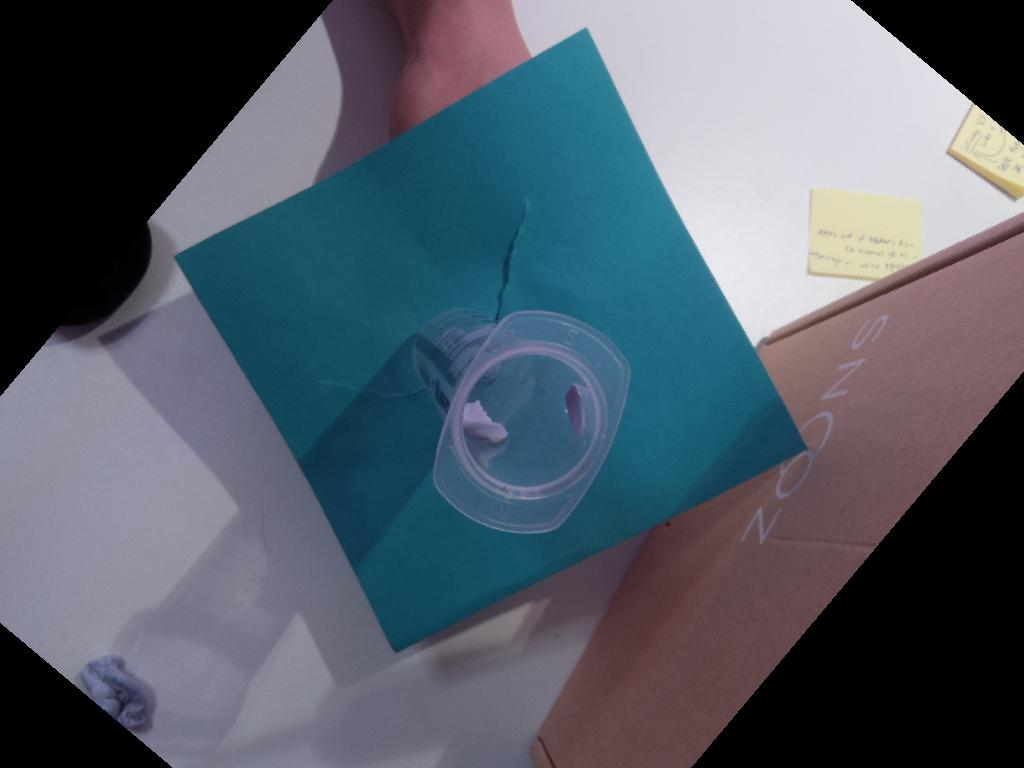dirty: (432, 310, 632, 533)
